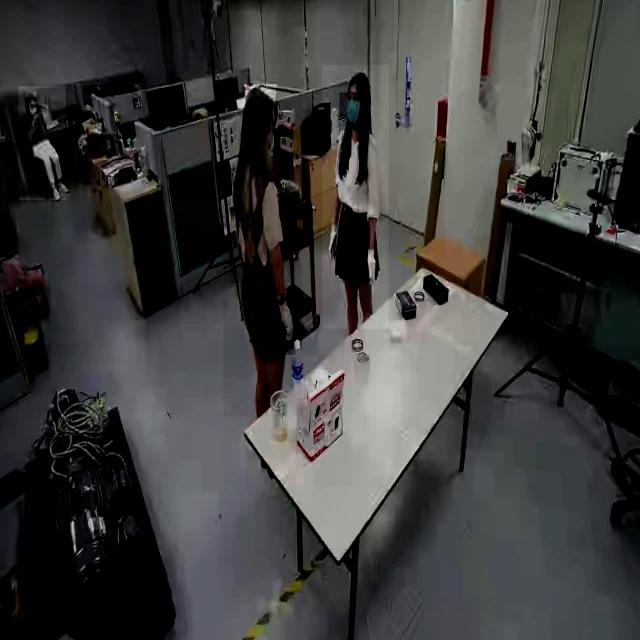face_mask: (339, 92, 362, 130), (27, 99, 37, 119)
hand_glove: (280, 294, 296, 356), (363, 254, 377, 292), (327, 222, 339, 264)
head_nohelmet: (245, 84, 276, 108), (349, 70, 372, 88), (25, 91, 37, 98)
person: (223, 92, 303, 418), (322, 65, 388, 330), (18, 86, 66, 201)
